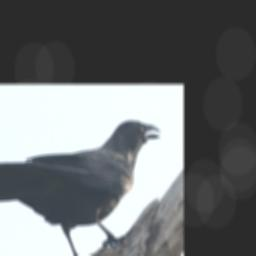Crow: (0, 119, 163, 256)
